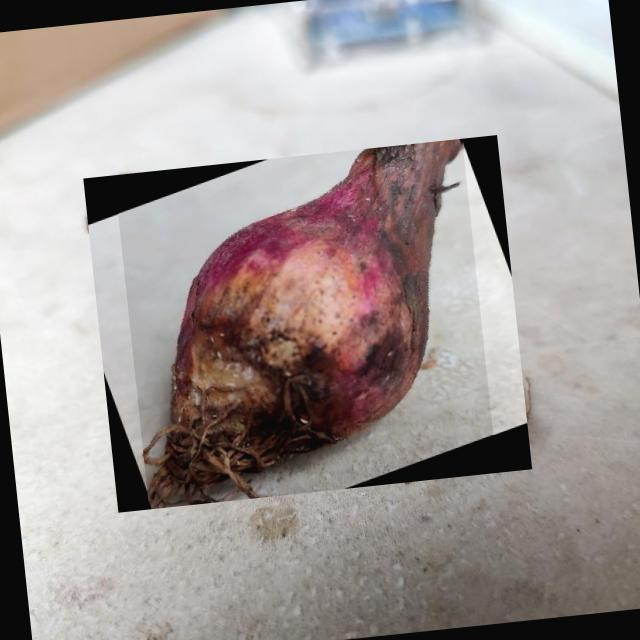rotten: (143, 138, 462, 508)
